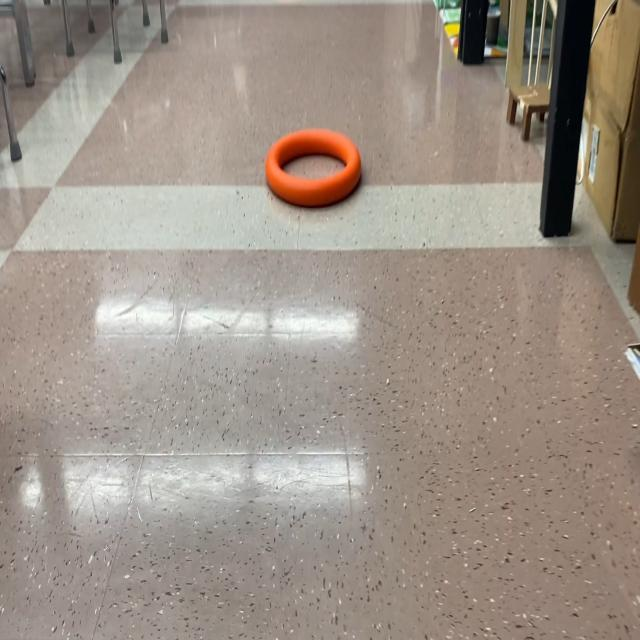note: (262, 125, 362, 212)
